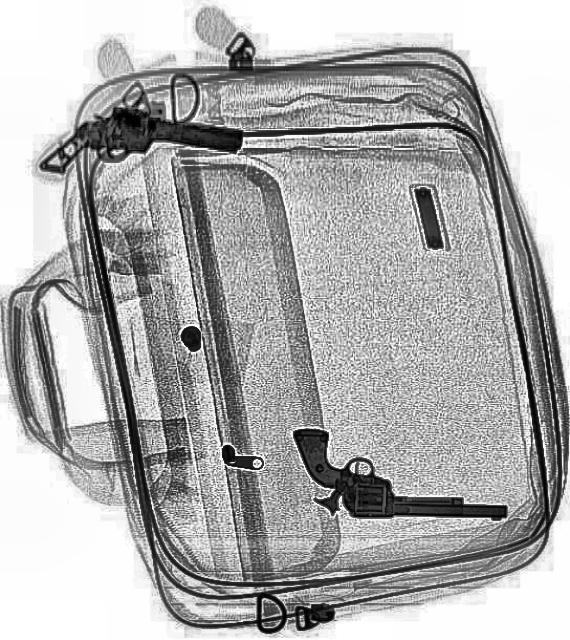Gun: (36, 92, 242, 206), (292, 428, 508, 518)
